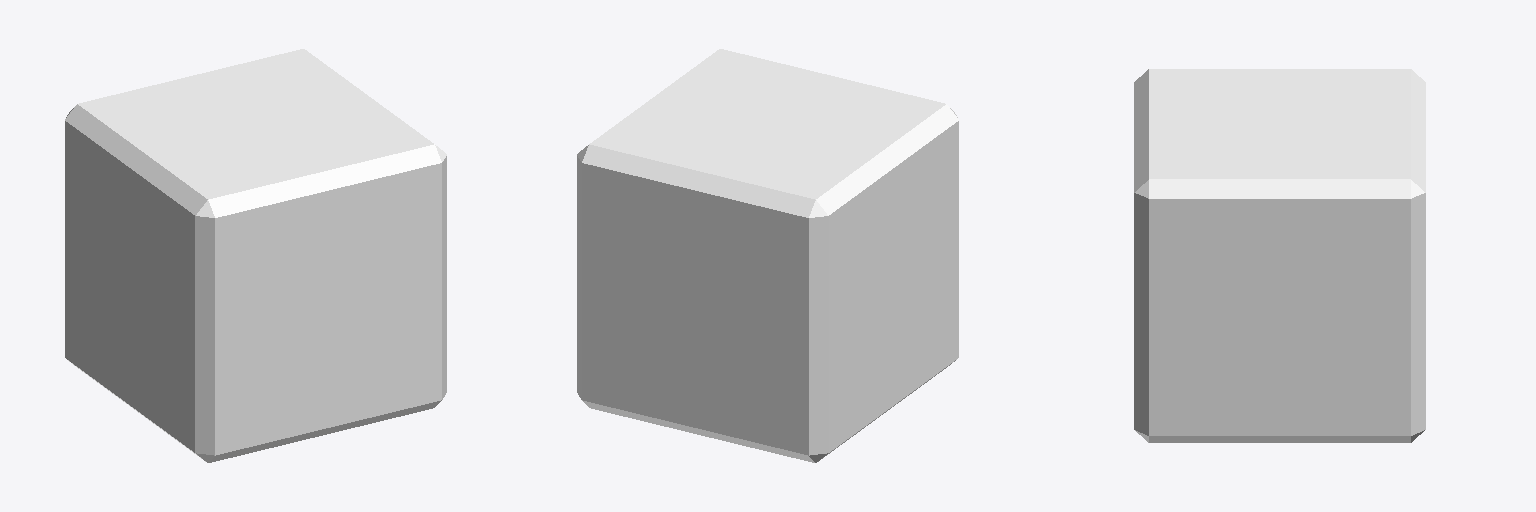
The model's file is StartingWoodenBlock.obj.
The picture shows the model from 3 angles: view 1: azimuth 30°, elevation 25°; view 2: azimuth 150°, elevation 25°; view 3: azimuth 270°, elevation 25°; orthographic projection.
Parts seen in each view (by area): view 1: n0b0; view 2: n0b0; view 3: n0b0.
Boxes of the visible parts, <box> form: n0b0: <box>65,49,446,462</box>; n0b0: <box>577,49,958,462</box>; n0b0: <box>1134,69,1425,442</box>.
Size of the model in its own units: 1 by 1 by 1.